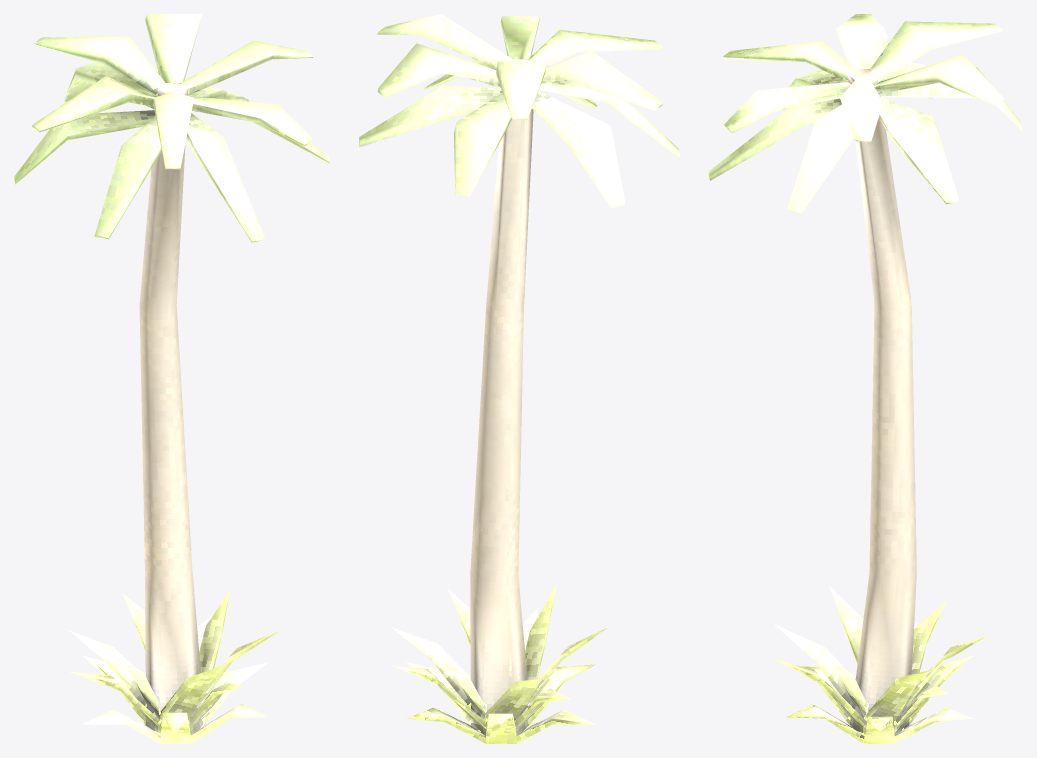
File: Palm.glb
The picture shows the model from 3 angles, left to right: view 1: azimuth 30°, elevation 25°; view 2: azimuth 150°, elevation 25°; view 3: azimuth 270°, elevation 25°; orthographic projection.
Visible parts, largest first — view 1: Palm4; view 2: Palm4; view 3: Palm4.
Part boxes in pixels (left/top/right/bottom): Palm4: left=14, top=14, right=329, bottom=743; Palm4: left=358, top=14, right=679, bottom=743; Palm4: left=708, top=14, right=1022, bottom=743.
Bounding box in the file's own units: 1.89 × 4.53 × 1.88.
